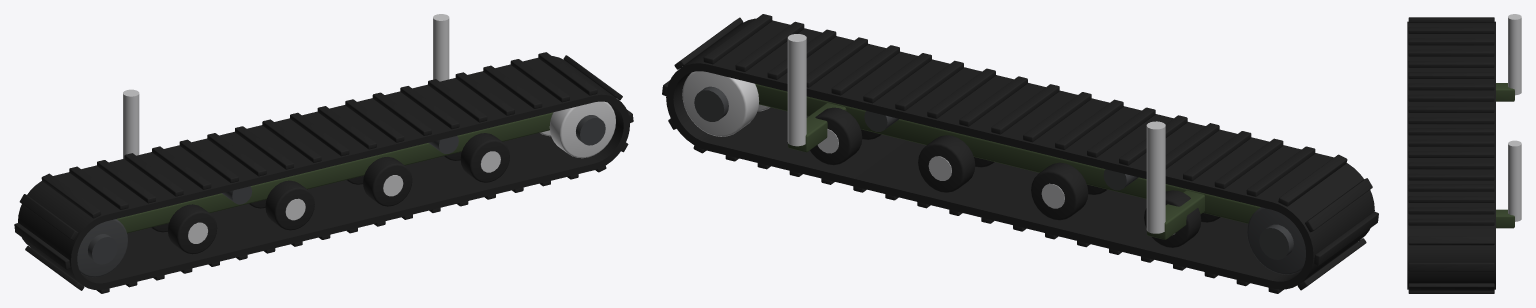
File: track_right.glb
3 renders of one model, left to right at view 1: azimuth 30°, elevation 25°; view 2: azimuth 150°, elevation 25°; view 3: azimuth 270°, elevation 25°, orthographic. The views are drawn at different scales.
Parts seen in each view (by area): view 1: track_right; view 2: track_right; view 3: track_right.
Boxes of the visible parts, x1,y1,x2,y2 form: track_right: (14, 14, 633, 293); track_right: (662, 14, 1378, 293); track_right: (1407, 14, 1521, 293).
Size of the model in its own units: 1.98 by 0.44 by 0.413.
